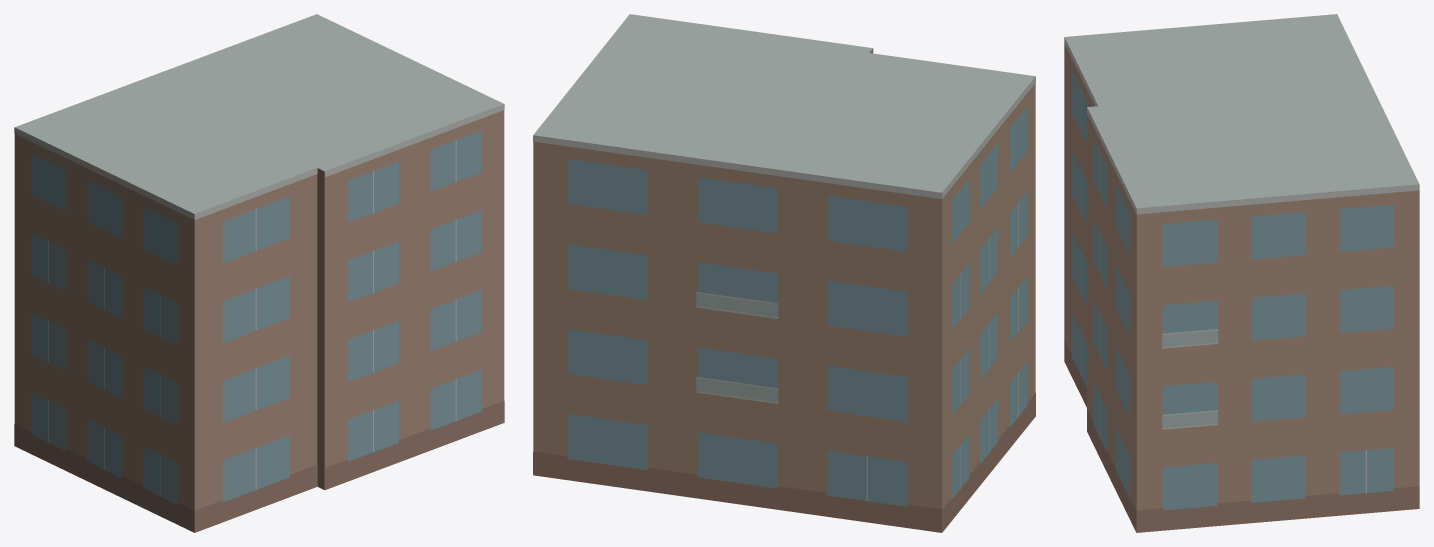
Rendered from survey-upis-32613142.glb.
The picture shows the model from 3 angles, left to right: view 1: azimuth 30°, elevation 25°; view 2: azimuth 150°, elevation 25°; view 3: azimuth 270°, elevation 25°; orthographic projection. The views are drawn at different scales.
Parts seen in each view (by area): view 1: survey-upis-32613142.tmp; view 2: survey-upis-32613142.tmp; view 3: survey-upis-32613142.tmp.
Part boxes in pixels (x1,y1,x2,y2): survey-upis-32613142.tmp: (14,14,504,532); survey-upis-32613142.tmp: (533,14,1035,532); survey-upis-32613142.tmp: (1064,14,1419,532).
Size of the model in its own units: 16.71 by 13 by 12.91.
